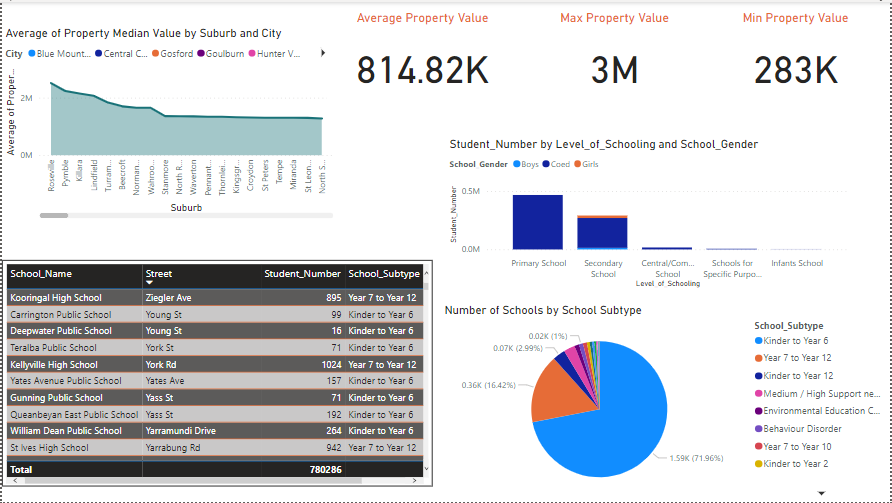

The dashboard page shown, as its layout file describes it:
{"tool":"powerbi","page":{"name":"Suburb_Property","canvas":[1280,720],"ordinal":0},"visuals":[{"type":"areaChart","title":"Average of Property Median Value by Suburb and City","fields":{"Category":["AUS Post Suburb.Suburb"],"Y":["Avg(NSW_PropertyMedainValue.Property_Median_Value)"],"Series":["AUS Post Suburb.City"]},"box":[0,34.6,482.4,282.2],"z":0},{"type":"pieChart","title":"Number of Schools by School Subtype","fields":{"Y":["CountNonNull(NSW-Public-Schools-Master-Data.School_Id)"],"Category":["NSW-Public-Schools-Master-Data.School_Subtype"]},"box":[631.6,433.4,648.4,287.2],"z":1000},{"type":"tableEx","fields":{"Values":["NSW-Public-Schools-Master-Data.School_Name","NSW-Public-Schools-Master-Data.Street","Sum(NSW-Public-Schools-Master-Data.Student_Number)","NSW-Public-Schools-Master-Data.School_Subtype"]},"box":[0,371.2,619.8,325.9],"z":3000},{"type":"card","title":"Min Property Value","fields":{"Values":["Measures (2).Min Property Value"]},"box":[1004.5,11.8,275.5,137.7],"z":3002},{"type":"card","title":"Max Property Value","fields":{"Values":["Measures (2).Max Property Value"]},"box":[744.1,11.8,275.5,137.7],"z":3003},{"type":"card","title":"Average Property Value","fields":{"Values":["Measures (2).Avg Property Value"]},"box":[468.7,11.8,275.5,137.7],"z":3004},{"type":"columnChart","fields":{"Y":["Sum(NSW-Public-Schools-Master-Data.Student_Number)"],"Series":["NSW-Public-Schools-Master-Data.School_Gender"],"Category":["NSW-Public-Schools-Master-Data.Level_of_Schooling"]},"box":[640,194.9,584.6,221.7],"z":3005}]}

Visuals, with their boxes in screenshot pixels (x1, y1, x2, y2), scaled from the page's 1280x720 canvas onto the 892x503 screenshot:
"Average of Property Median Value by Suburb and City" areaChart: 0,24,336,221
"Number of Schools by School Subtype" pieChart: 440,303,891,502
tableEx - NSW-Public-Schools-Master-Data.School_Name x NSW-Public-Schools-Master-Data.Street: 0,259,432,487
"Min Property Value" card: 700,8,891,104
"Max Property Value" card: 519,8,711,104
"Average Property Value" card: 327,8,519,104
columnChart - Sum(NSW-Public-Schools-Master-Data.Student_Number) x NSW-Public-Schools-Master-Data.School_Gender: 446,136,853,291
